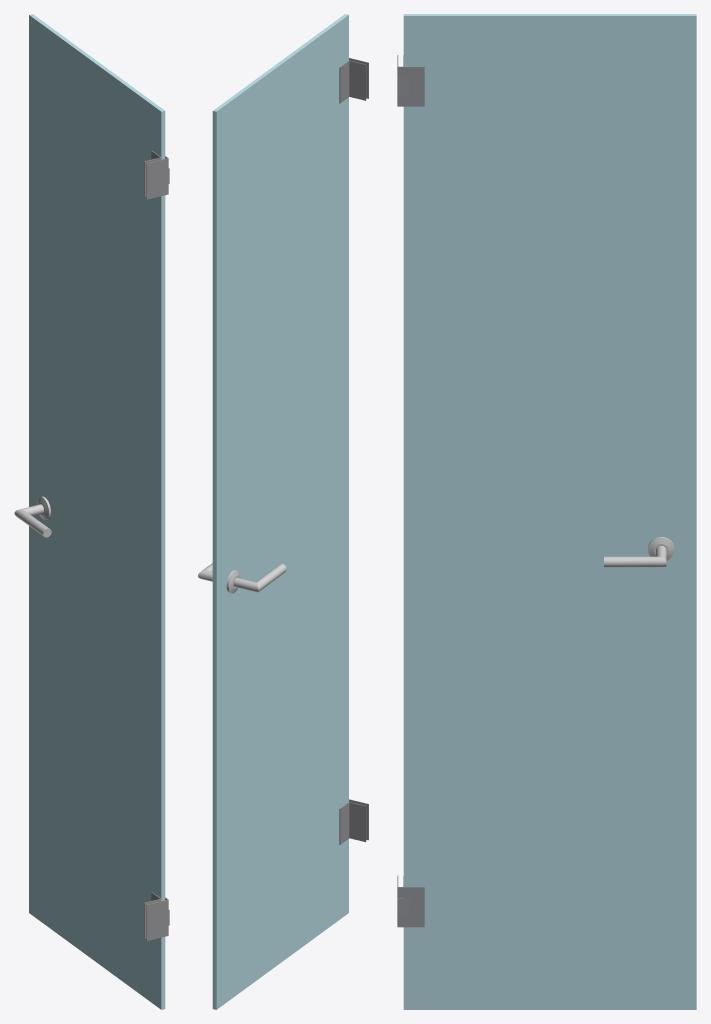
Rendered from Tuere_Dusche.glb.
The picture shows the model from 3 angles, left to right: view 1: azimuth 30°, elevation 25°; view 2: azimuth 150°, elevation 25°; view 3: azimuth 270°, elevation 25°; orthographic projection. The views are drawn at different scales.
Parts seen in each view (by area): view 1: Mesh1 Component_279 G_25_Tu_re_Dusche_dwg1 Model, Mesh4 Component_282 G_25_Tu_re_Dusche_dwg1 Model, Mesh9 Component_287 G_25_Tu_re_Dusche_dwg1 Model, Mesh12 Component_290 G_25_Tu_re_Dusche_dwg1 Model; view 2: Mesh1 Component_279 G_25_Tu_re_Dusche_dwg1 Model, Mesh12 Component_290 G_25_Tu_re_Dusche_dwg1 Model, Mesh11 Component_289 G_25_Tu_re_Dusche_dwg1 Model, Mesh6 Component_284 G_25_Tu_re_Dusche_dwg1 Model, Mesh5 Component_283 G_25_Tu_re_Dusche_dwg1 Model, Mesh10 Component_288 G_25_Tu_re_Dusche_dwg1 Model; view 3: Mesh1 Component_279 G_25_Tu_re_Dusche_dwg1 Model, Mesh13 Component_291 G_25_Tu_re_Dusche_dwg1 Model, Mesh2 Component_280 G_25_Tu_re_Dusche_dwg1 Model, Mesh7 Component_285 G_25_Tu_re_Dusche_dwg1 Model.
Part boxes in pixels (x1,y1,x2,y2): Mesh1 Component_279 G_25_Tu_re_Dusche_dwg1 Model: [29, 14, 165, 1009]; Mesh4 Component_282 G_25_Tu_re_Dusche_dwg1 Model: [146, 158, 168, 199]; Mesh9 Component_287 G_25_Tu_re_Dusche_dwg1 Model: [146, 899, 168, 940]; Mesh12 Component_290 G_25_Tu_re_Dusche_dwg1 Model: [14, 496, 51, 537]; Mesh1 Component_279 G_25_Tu_re_Dusche_dwg1 Model: [212, 14, 348, 1009]; Mesh12 Component_290 G_25_Tu_re_Dusche_dwg1 Model: [226, 563, 286, 593]; Mesh11 Component_289 G_25_Tu_re_Dusche_dwg1 Model: [349, 802, 366, 842]; Mesh6 Component_284 G_25_Tu_re_Dusche_dwg1 Model: [349, 60, 366, 100]; Mesh5 Component_283 G_25_Tu_re_Dusche_dwg1 Model: [339, 60, 349, 103]; Mesh10 Component_288 G_25_Tu_re_Dusche_dwg1 Model: [339, 802, 349, 844]; Mesh1 Component_279 G_25_Tu_re_Dusche_dwg1 Model: [403, 14, 696, 1009]; Mesh13 Component_291 G_25_Tu_re_Dusche_dwg1 Model: [604, 537, 674, 567]; Mesh2 Component_280 G_25_Tu_re_Dusche_dwg1 Model: [397, 66, 424, 106]; Mesh7 Component_285 G_25_Tu_re_Dusche_dwg1 Model: [397, 887, 424, 927].
Size of the model in its own units: 15.86 by 225 by 61.3.
